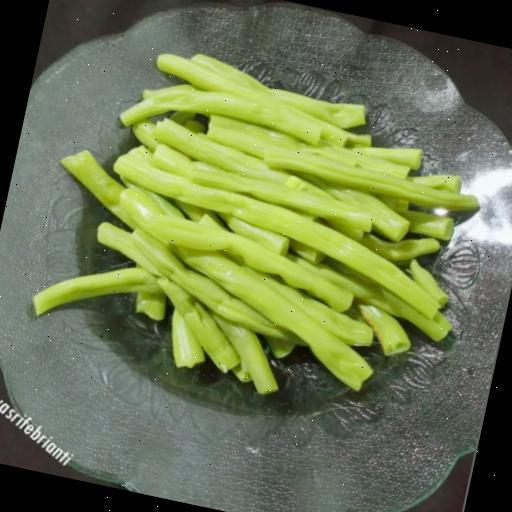buncis_rebus: (13, 15, 512, 446)
